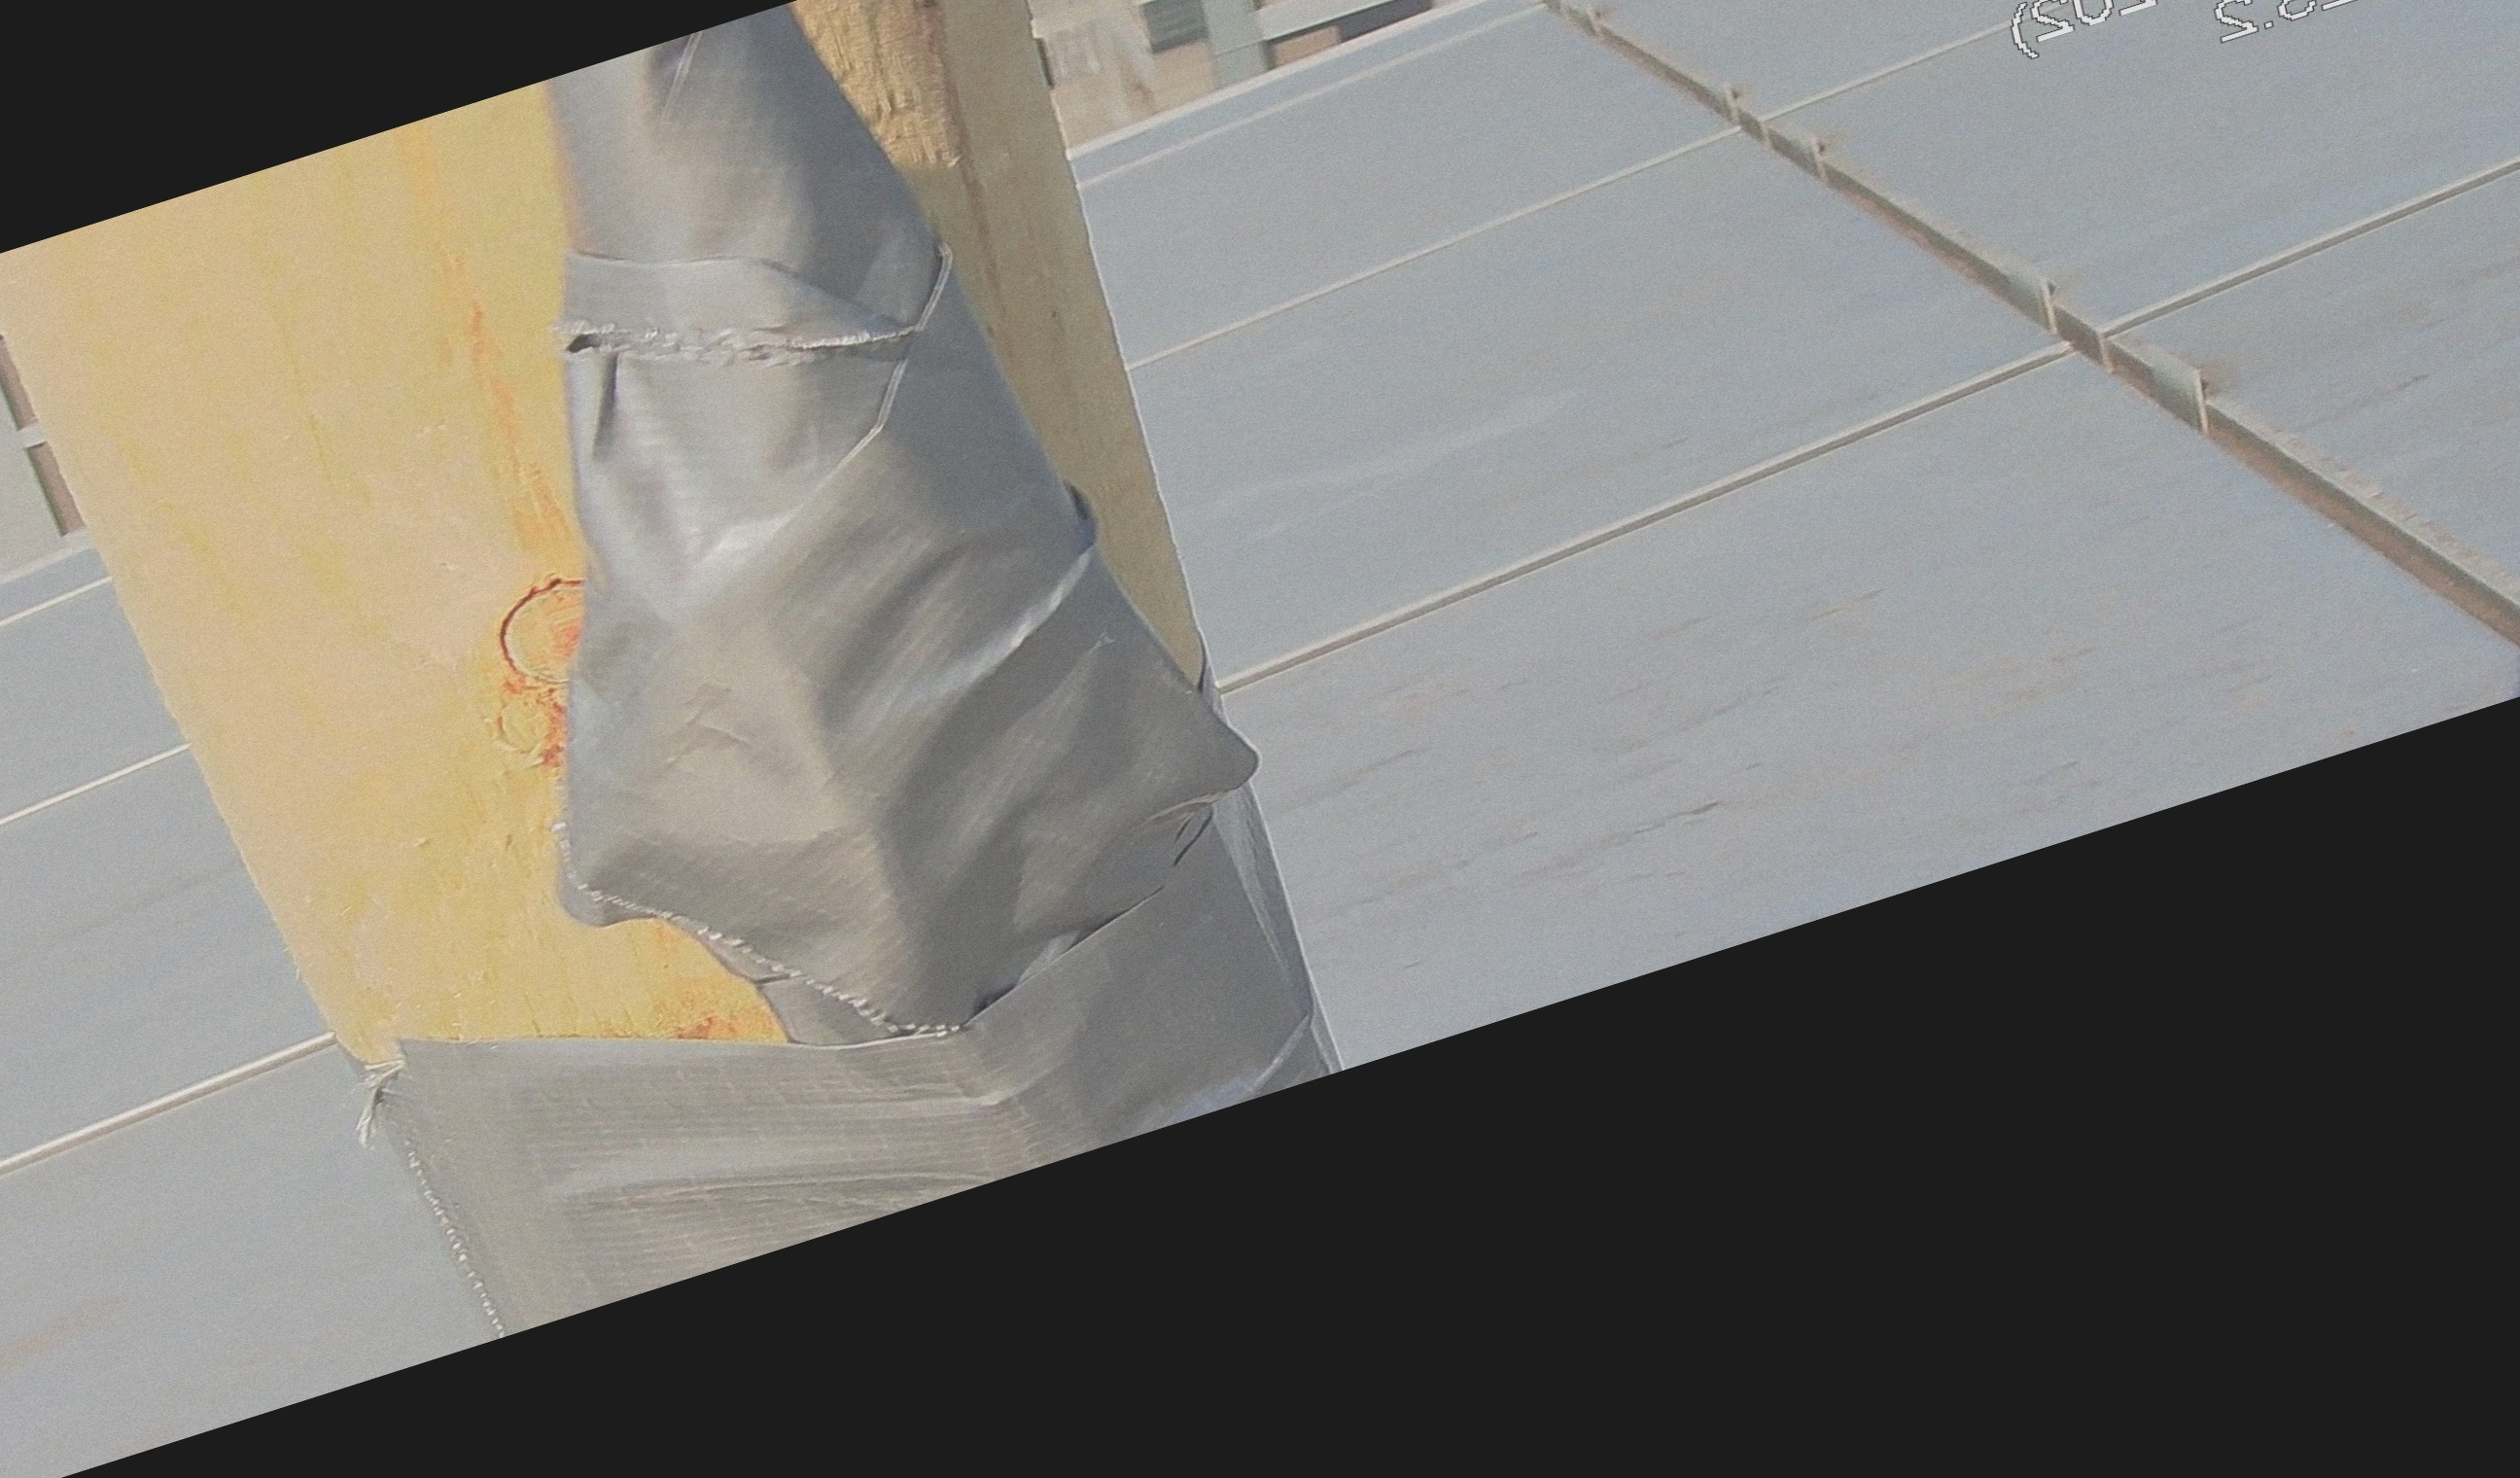Other: (352, 0, 1285, 1237)
